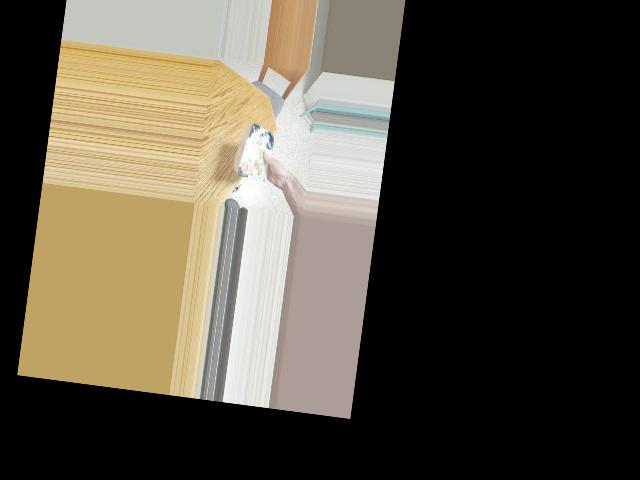cheese: (235, 124, 281, 180)
